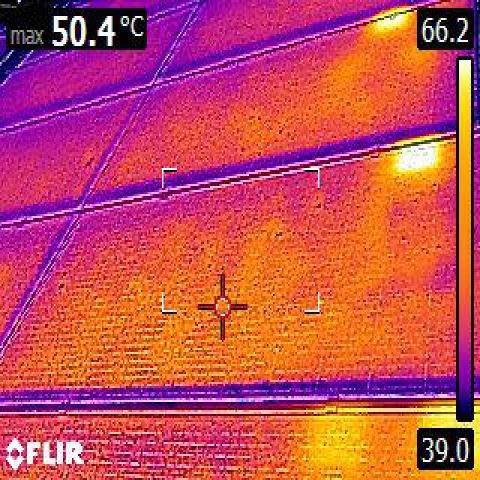fault: (398, 142, 434, 170)
